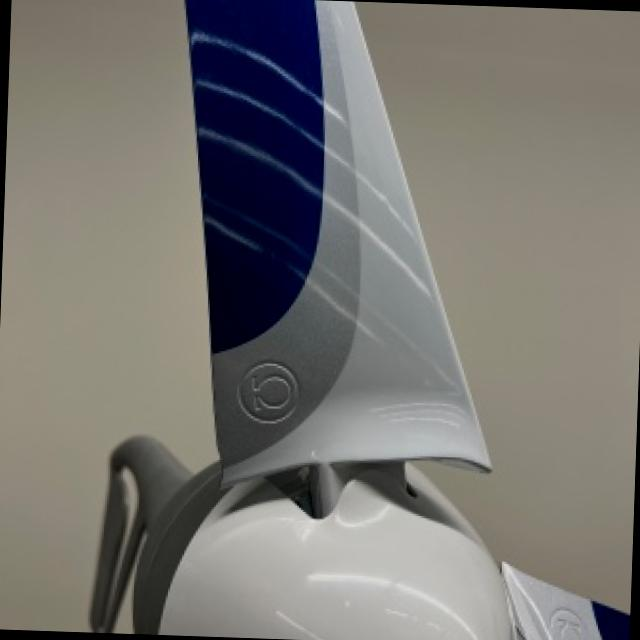healthy: (89, 0, 628, 640)
